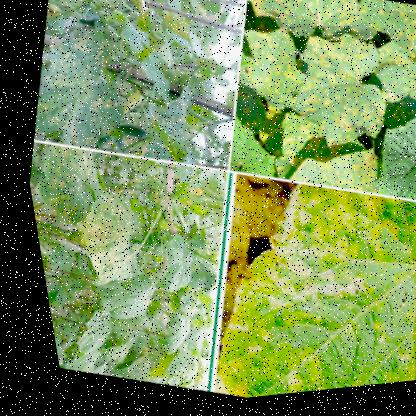DownyMildew: (226, 185, 415, 399), (285, 39, 393, 149)
